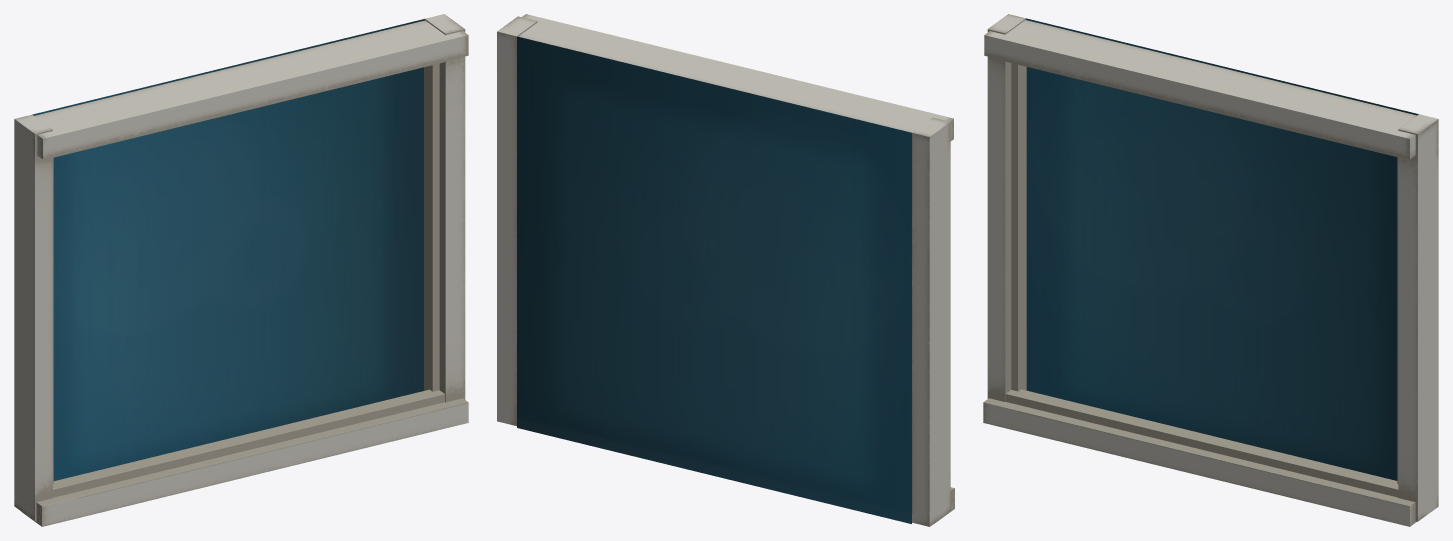
The model's file is windowsNoCross.fbx.
3 renders of one model, left to right at view 1: azimuth 30°, elevation 25°; view 2: azimuth 150°, elevation 25°; view 3: azimuth 330°, elevation 25°, orthographic.
Visible parts, largest first — view 1: windowNoCross; view 2: windowNoCross; view 3: windowNoCross.
Boxes of the visible parts, x1,y1,x2,y2 form: windowNoCross: (14, 14, 468, 526); windowNoCross: (497, 14, 954, 526); windowNoCross: (983, 14, 1438, 526).
Bounding box in the file's own units: 149 × 129 × 15.81.
